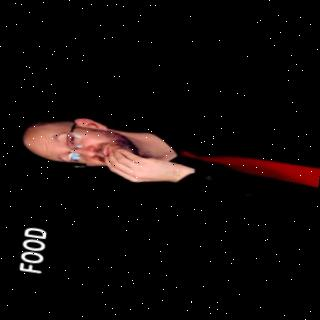Food: (10, 89, 320, 219)
